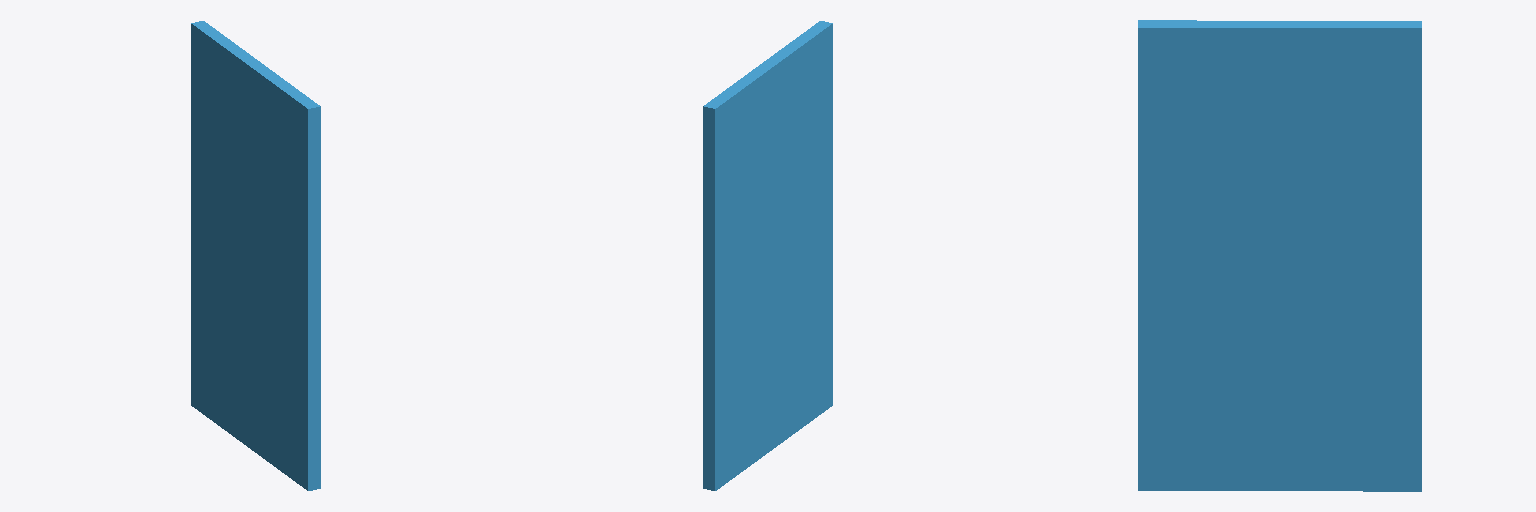
URDF robot description (door_room6):
<?xml version="1.0" ?>
<robot name="door_room6">

  <gazebo reference="base_r6">
    <material>Gazebo/GrassFloor</material>
  </gazebo>
  <link name="world"/>
  <joint name="link_joint_r6" type="prismatic">
    <axis xyz="1 0 0"/>
    <parent link="world"/>
    <origin rpy="0 0 1.57" xyz="3.77 10.3 0.96"/>
    <limit effort="1000.0" lower="-0" upper="1" velocity="0.5"/>
    <child link="link_r6"/>
    <dynamics damping="10" friction="1000"/>
  </joint>
  <link name="link_r6">
    <inertial>
      <mass value="10"/>
      <origin xyz="0 0 0"/>
      <inertia ixx="1.0" ixy="0.0" ixz="0.0" iyy="0.1" iyz="0.0" izz="0.1"/>
    </inertial>
    <visual>
      <origin rpy="0 0 0" xyz="0 0 0"/>
      <geometry>
        <box size="1 0.06 1.8"/>
      </geometry>
    </visual>
    <collision>
      <origin rpy="0 0 0" xyz="0 0 0"/>
      <geometry>
        <box size="1 0.06 1.8"/>
      </geometry>
    </collision>
  </link>
  <gazebo reference="link_r6">
    <material>Gazebo/RustySteel</material>
    <turnGravityOff>true</turnGravityOff>
  </gazebo>
</robot>

--- Render facts (derived) ---
Views: 3 orthographic renders of the robot side by side, from view 1: azimuth 30°, elevation 25°; view 2: azimuth 150°, elevation 25°; view 3: azimuth 270°, elevation 25°.
Model door_room6 with 2 links and 1 joints (1 prismatic), rooted at world, posed all joints at 0.
Links seen in each view (by area): view 1: link_r6; view 2: link_r6; view 3: link_r6.
Link boxes in pixels (box(x1,y1,x2,y2)): link_r6: box(191, 21, 320, 490); link_r6: box(703, 21, 832, 490); link_r6: box(1138, 20, 1421, 491).
Bounding box of the posed robot: 0.0608 × 1 × 1.8 m (x, y, z).
Geometry: primitives only (box / cylinder / sphere), no mesh files.
